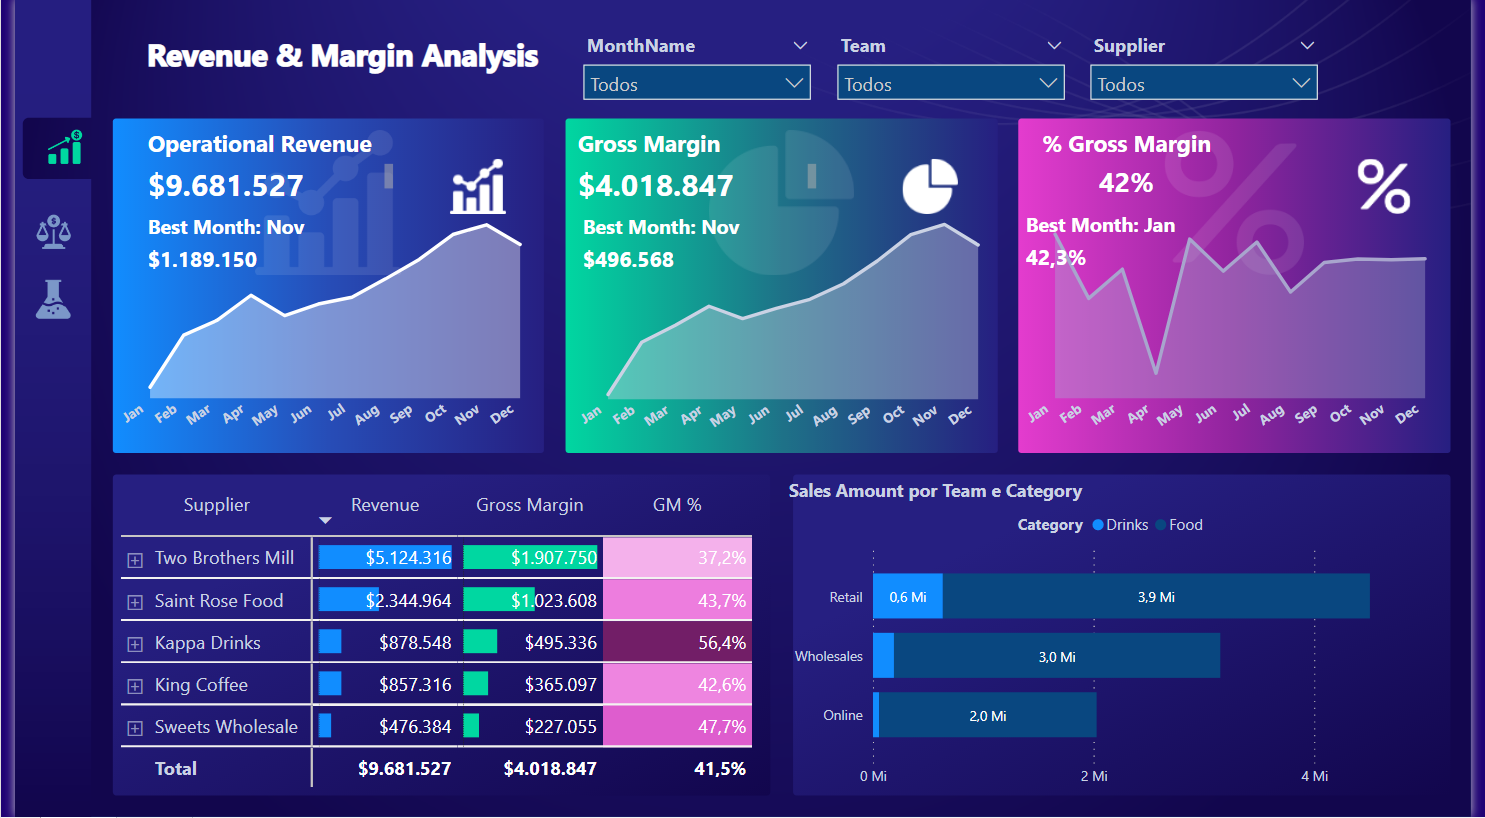

What the dashboard file says about the page in this screenshot:
{"tool":"powerbi","page":{"name":"Page 1","canvas":[1280,720],"ordinal":0},"visuals":[{"type":"barChart","fields":{"Y":["Sum(Revenue.Sales Amount)"],"Category":["Revenue.Team"],"Series":["Product.Category"]},"box":[675.5,422.2,580.9,280.3],"z":0},{"type":"multiRowCard","title":"Operational Revenue","fields":{"Values":["Key Measure.Revenue"]},"box":[111.5,113.1,226.3,70.9],"z":1000},{"type":"multiRowCard","title":"Gross Margin","fields":{"Values":["Key Measure.Gross Margin"]},"box":[489.7,113.1,219.5,70.9],"z":2000},{"type":"card","title":"% Gross Margin","fields":{"Values":["Revenue.GM %"]},"box":[883.2,113.1,187.4,70.9],"z":3000},{"type":"pivotTable","fields":{"Rows":["Product.Supplier","Product.Group"],"Values":["Revenue.Revenue","Revenue.Gross Margin","Revenue.GM %"]},"box":[87.8,422.2,570.8,280.3],"z":4000},{"type":"areaChart","fields":{"Category":["Date.MonthName"],"Y":["Key Measure.Revenue"]},"box":[87.8,184.1,373.2,214.5],"z":5000},{"type":"multiRowCard","title":"Operational Revenue","fields":{"Values":["Key Measure.Revenue","Key Measure.Title Best Month"]},"box":[111.5,184.1,248.2,70.9],"z":6000},{"type":"textbox","box":[86.1,25.3,403.6,57.4],"z":7000},{"type":"slicer","fields":{"Values":["Date.MonthName"]},"box":[489.7,25.3,219.5,76],"z":8000},{"type":"slicer","fields":{"Values":["Revenue.Team"]},"box":[712.6,25.3,219.5,76],"z":9000},{"type":"slicer","fields":{"Values":["Product.Supplier"]},"box":[935.5,25.3,219.5,76],"z":10000},{"type":"areaChart","fields":{"Category":["Date.MonthName"],"Y":["Key Measure.Gross Margin"]},"box":[490.1,183.6,373,215.4],"z":11000},{"type":"areaChart","fields":{"Category":["Date.MonthName"],"Y":["Key Measure.GM %"]},"box":[883.2,184.1,373.2,214.5],"z":12000},{"type":"multiRowCard","title":"Gross Margin","fields":{"Values":["Key Measure.Gross Margin","Key Measure.Title Best Month"]},"box":[494.5,183.6,218.3,70.8],"z":13000},{"type":"multiRowCard","title":"Gross Margin","fields":{"Values":["Key Measure.GM %","Key Measure.Title Best Month"]},"box":[883.2,182.4,187.4,72.6],"z":14000},{"type":"image","box":[0,102.7,88.2,56.4],"z":14001},{"type":"image","box":[0,177.8,66.5,56.4],"z":14002},{"type":"image","box":[2.9,234.2,62.2,62.2],"z":14003}]}

Visuals, with their boxes on the page's 1280x720 design canvas (x1, y1, x2, y2). These are canvas units, not pixel positions in the 1485x818 screenshot, which may show the page scaled, cropped or inside an application window:
barChart - Sum(Revenue.Sales Amount) x Revenue.Team: l=676, t=422, r=1256, b=702
"Operational Revenue" multiRowCard: l=112, t=113, r=338, b=184
"Gross Margin" multiRowCard: l=490, t=113, r=709, b=184
"% Gross Margin" card: l=883, t=113, r=1071, b=184
pivotTable - Product.Supplier x Product.Group: l=88, t=422, r=659, b=702
areaChart - Date.MonthName x Key Measure.Revenue: l=88, t=184, r=461, b=399
"Operational Revenue" multiRowCard: l=112, t=184, r=360, b=255
textbox: l=86, t=25, r=490, b=83
slicer - Date.MonthName: l=490, t=25, r=709, b=101
slicer - Revenue.Team: l=713, t=25, r=932, b=101
slicer - Product.Supplier: l=936, t=25, r=1155, b=101
areaChart - Date.MonthName x Key Measure.Gross Margin: l=490, t=184, r=863, b=399
areaChart - Date.MonthName x Key Measure.GM %: l=883, t=184, r=1256, b=399
"Gross Margin" multiRowCard: l=494, t=184, r=713, b=254
"Gross Margin" multiRowCard: l=883, t=182, r=1071, b=255
image: l=0, t=103, r=88, b=159
image: l=0, t=178, r=66, b=234
image: l=3, t=234, r=65, b=296
